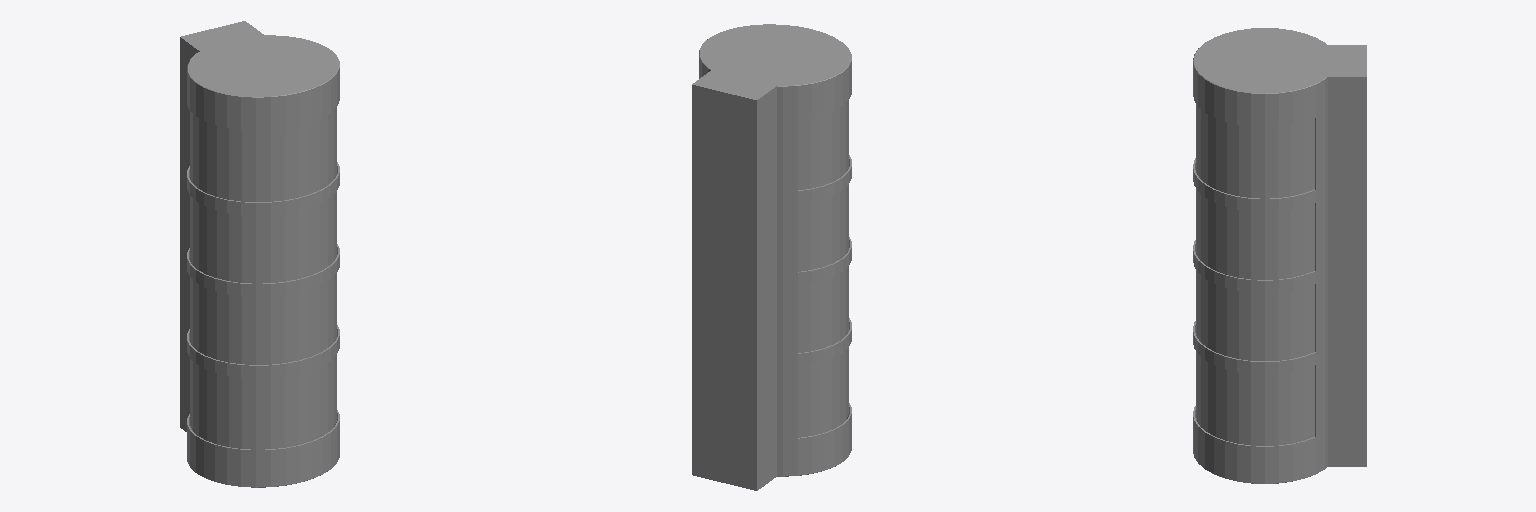
File: sconce_01.obj
3 renders of one model, left to right at view 1: azimuth 30°, elevation 25°; view 2: azimuth 150°, elevation 25°; view 3: azimuth 270°, elevation 25°, orthographic.
Parts seen in each view (by area): view 1: sconce_01; view 2: sconce_01; view 3: sconce_01.
Part boxes in pixels (bbox=[...]): sconce_01: bbox=[180, 21, 339, 487]; sconce_01: bbox=[692, 24, 851, 490]; sconce_01: bbox=[1193, 28, 1366, 483].
Size of the model in its own units: 0.0343 by 0.0945 by 0.0382.